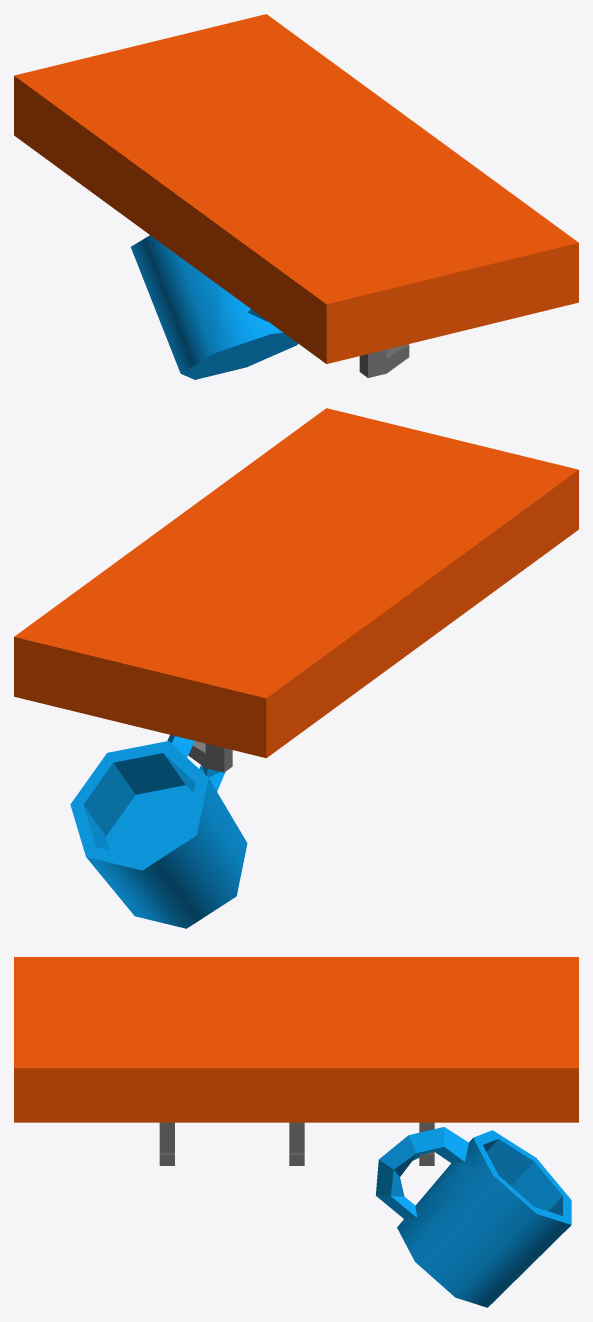
File: shelf.fbx
3 renders of one model, top to bottom at view 1: azimuth 30°, elevation 25°; view 2: azimuth 150°, elevation 25°; view 3: azimuth 270°, elevation 25°, orthographic. The views are drawn at different scales.
Visible parts, largest first — view 1: shelf; view 2: shelf; view 3: shelf.
Boxes of the visible parts, x1=… form: shelf: x1=14, y1=14, x2=578, y2=379; shelf: x1=14, y1=408, x2=578, y2=928; shelf: x1=14, y1=957, x2=578, y2=1307.
Size of the model in its own units: 21.6 by 24.46 by 46.3.
